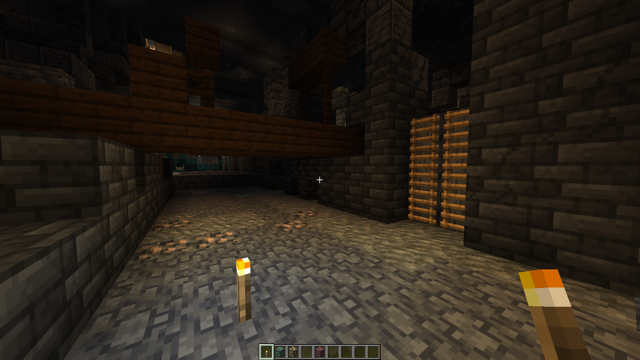iron: (138, 217, 236, 260), (277, 208, 317, 235)
